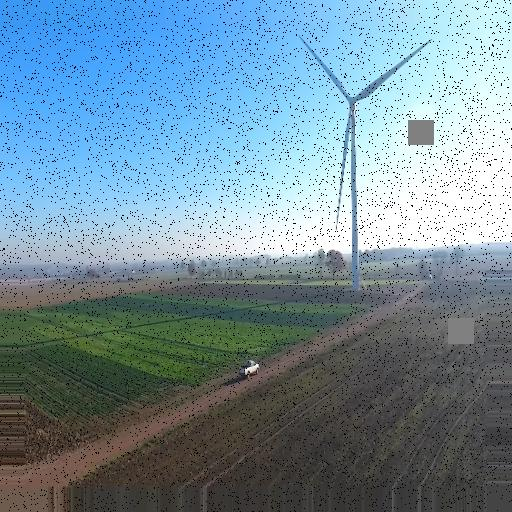wind turbine: (296, 32, 431, 295)
